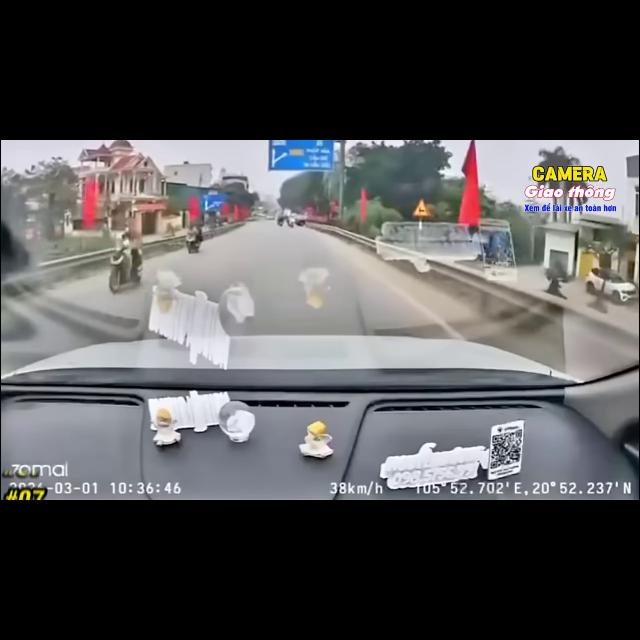car: (585, 268, 637, 303)
motorcycle: (109, 241, 142, 293), (186, 234, 199, 253), (287, 217, 294, 227), (277, 217, 284, 226)
